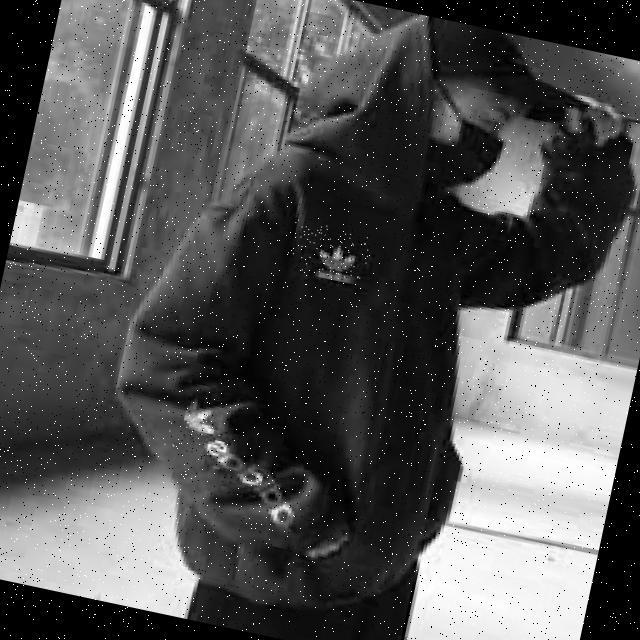Adidas: (283, 218, 372, 284), (158, 380, 228, 457)
